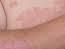plaque psoriasis: (0, 41, 31, 49)
